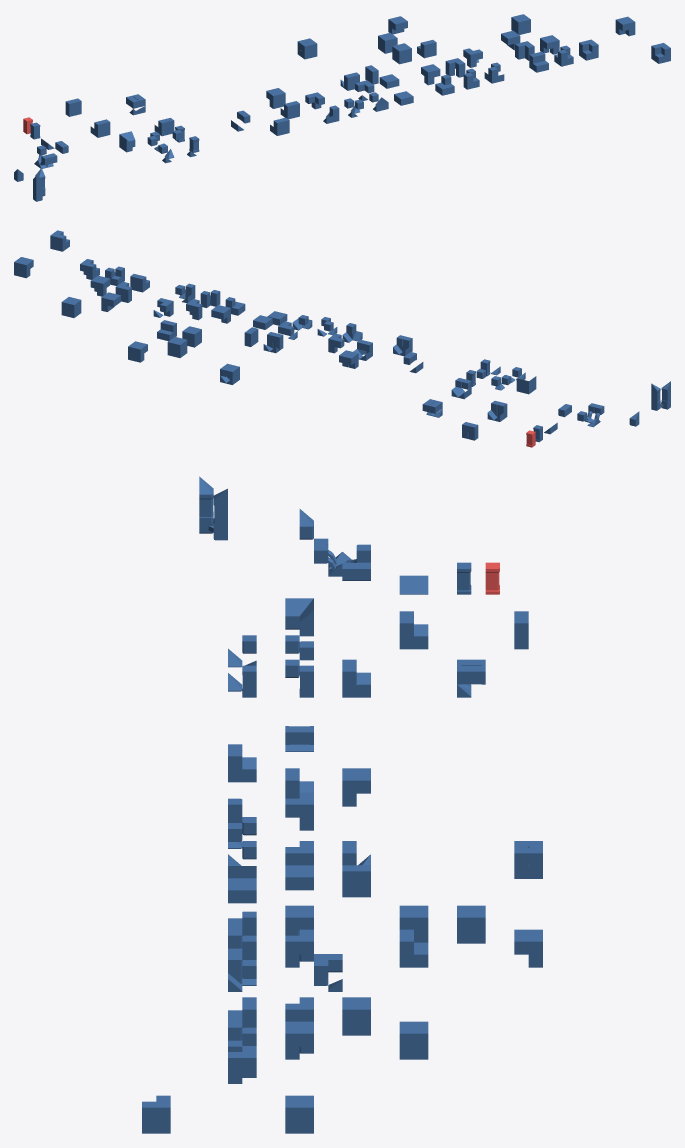
The model's file is Circus.glb.
The picture shows the model from 3 angles, top to bottom: view 1: azimuth 30°, elevation 25°; view 2: azimuth 150°, elevation 25°; view 3: azimuth 270°, elevation 25°; orthographic projection. The views are drawn at different scales.
Parts seen in each view (by area): view 1: 11101011_circle, 11101111_circle, 11111110_circle, 11001111_circle, 11101010_circle, 11111010_circle, 11101110_circle, 01011111_circle, 01001111_circle, 11110001_circle; view 2: 11111110_circle; view 3: 11110110_circle, 11111110_circle, 11101111_circle, 11111010_circle, 01111110_circle, 11101010_circle, 01100111_circle, 10011001_circle.
Boxes of the visible parts, x1=… form: 11101011_circle: x1=579, y1=39, x2=598, y2=60; 11101111_circle: x1=651, y1=43, x2=670, y2=63; 11111110_circle: x1=615, y1=16, x2=635, y2=36; 11001111_circle: x1=529, y1=51, x2=548, y2=72; 11101010_circle: x1=445, y1=58, x2=465, y2=77; 11111010_circle: x1=540, y1=35, x2=559, y2=54; 11101110_circle: x1=515, y1=41, x2=534, y2=60; 01011111_circle: x1=554, y1=45, x2=573, y2=66; 01001111_circle: x1=435, y1=74, x2=454, y2=95; 11110001_circle: x1=421, y1=64, x2=440, y2=85; 11111110_circle: x1=14, y1=257, x2=33, y2=278; 11110110_circle: x1=342, y1=997, x2=370, y2=1035; 11111110_circle: x1=285, y1=1095, x2=313, y2=1133; 11101111_circle: x1=142, y1=1095, x2=170, y2=1133; 11111010_circle: x1=285, y1=1021, x2=313, y2=1059; 01111110_circle: x1=399, y1=1021, x2=428, y2=1059; 11101010_circle: x1=285, y1=929, x2=313, y2=967; 01100111_circle: x1=457, y1=911, x2=485, y2=943; 10011001_circle: x1=342, y1=865, x2=370, y2=897.
Size of the model in its own units: 50.04 by 2 by 14.
